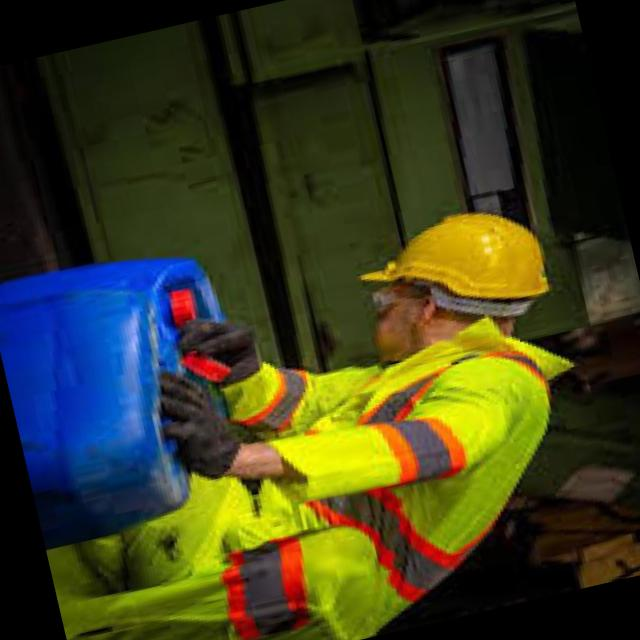gloved: (148, 356, 252, 488), (173, 302, 268, 392)
